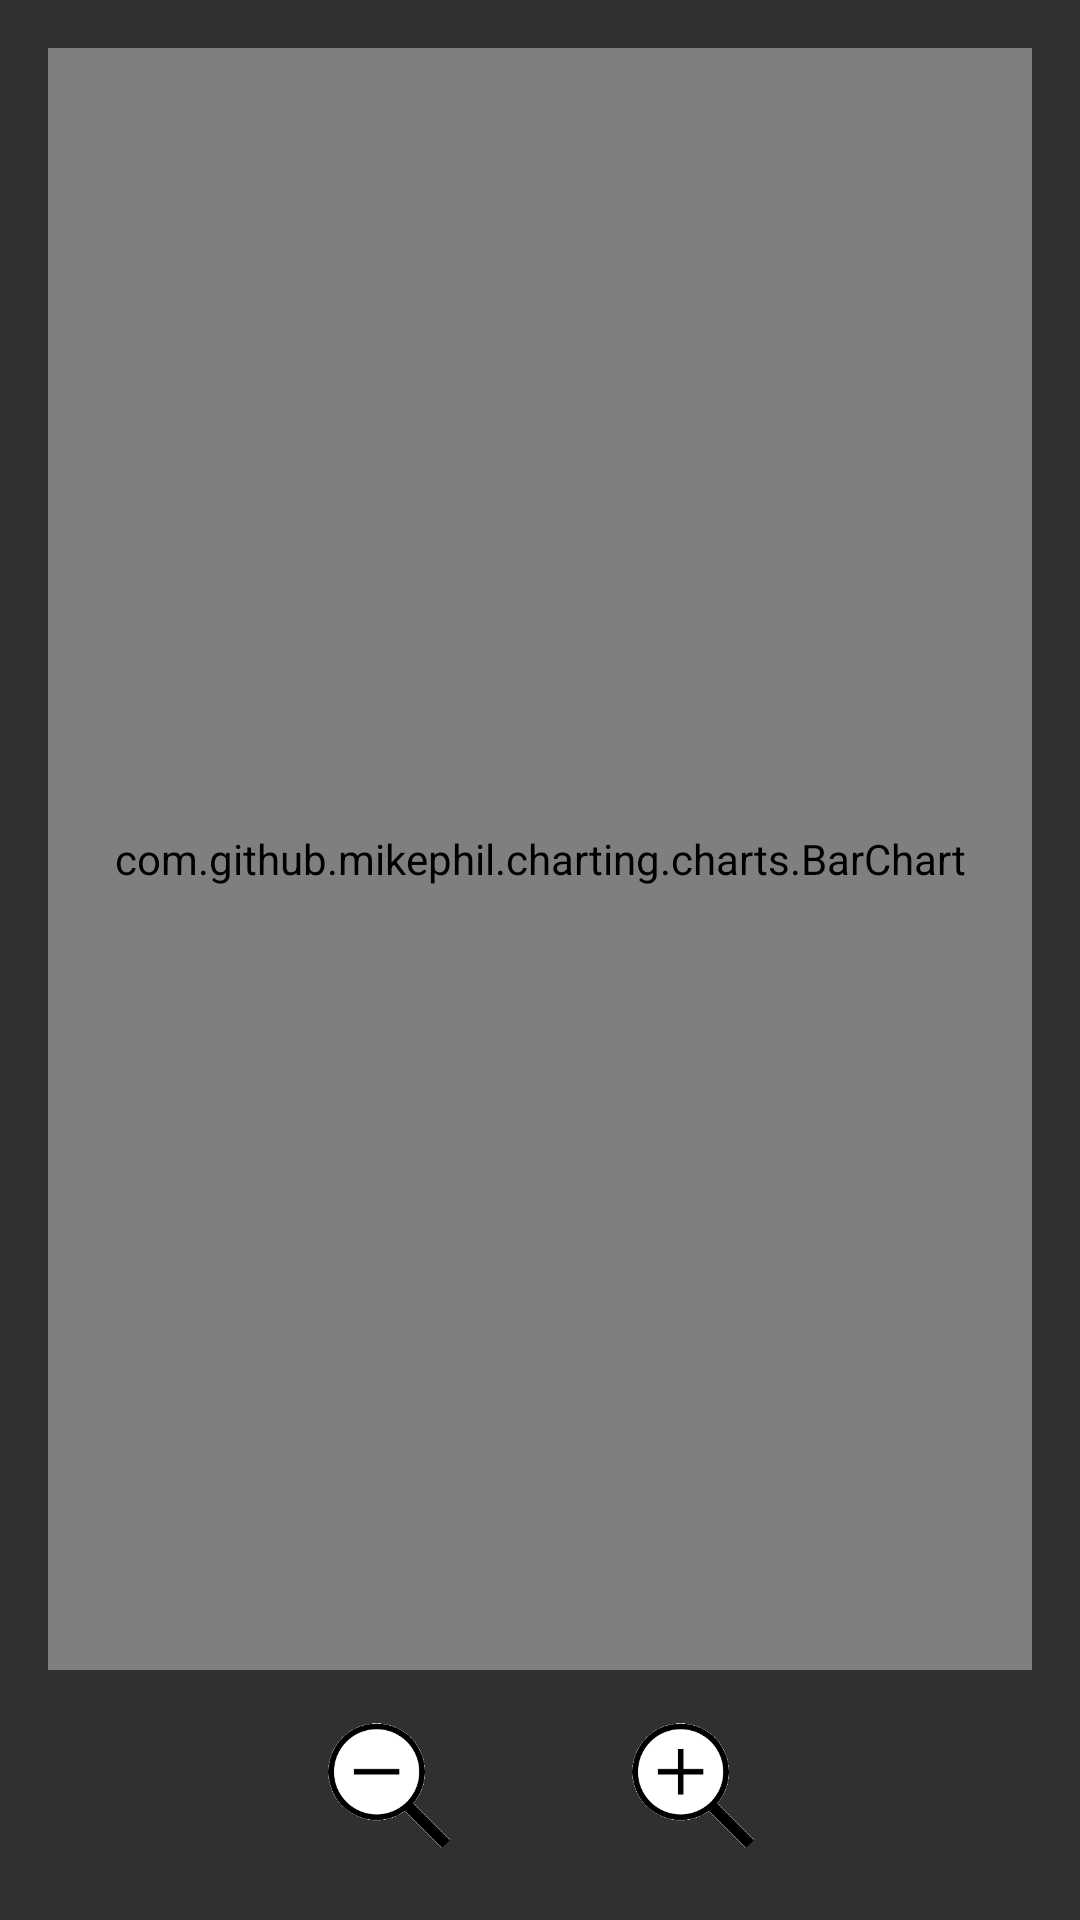

Where icons sit on this 1080×1920 app screen, as (x1, y1, x2, y2):
zoomin: (632, 1723, 754, 1848)
zoomout: (328, 1723, 450, 1848)
